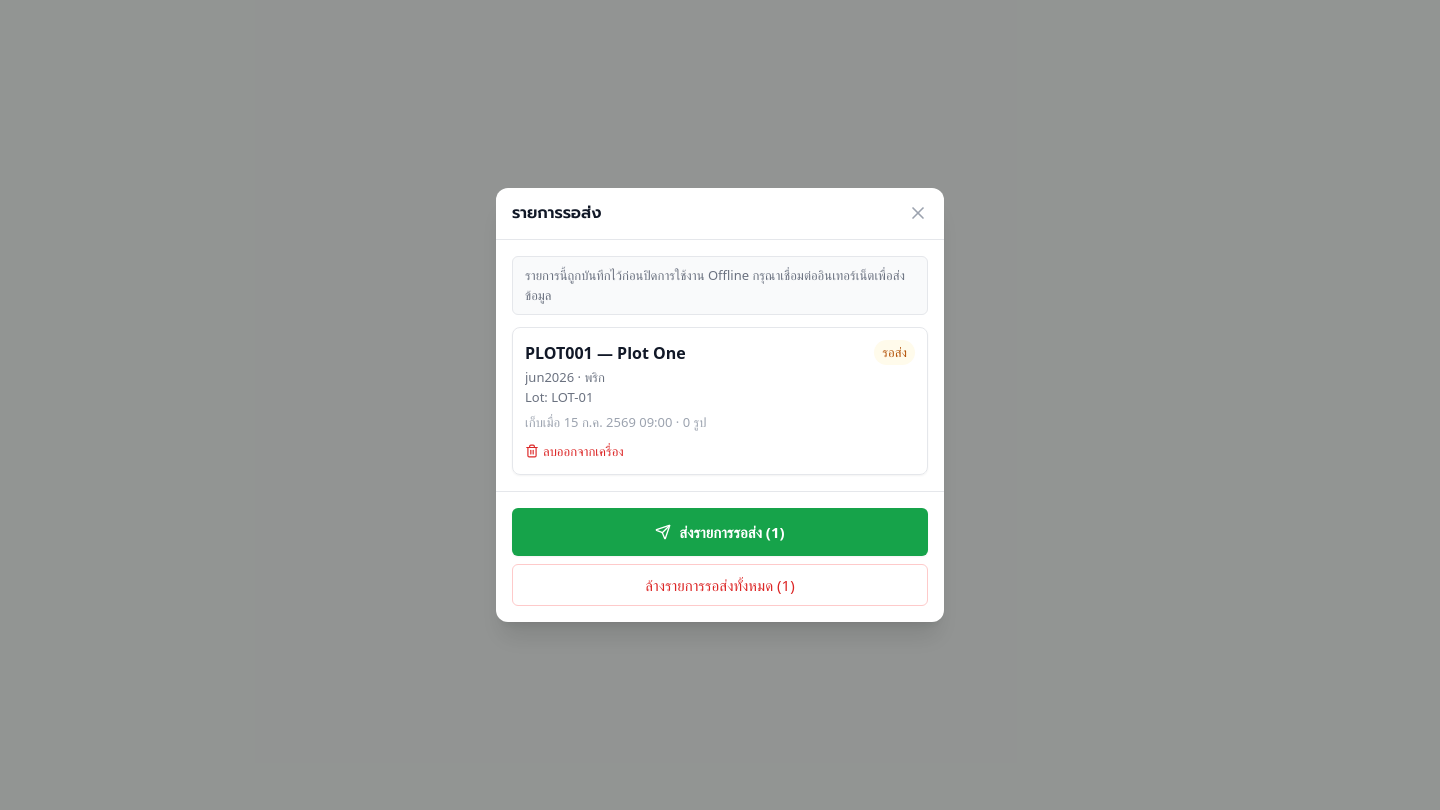
Test: OfflineInspectionQueuePanel — delete one › deletes a draft after confirm, refreshes the list, and notifies the parent
Expected: the text "PLOT001 — Plot One" is shown, [525,342,686,364]
Click the button "ลบออกจากเครื่อง" at (574, 451), box [525,441,624,462]
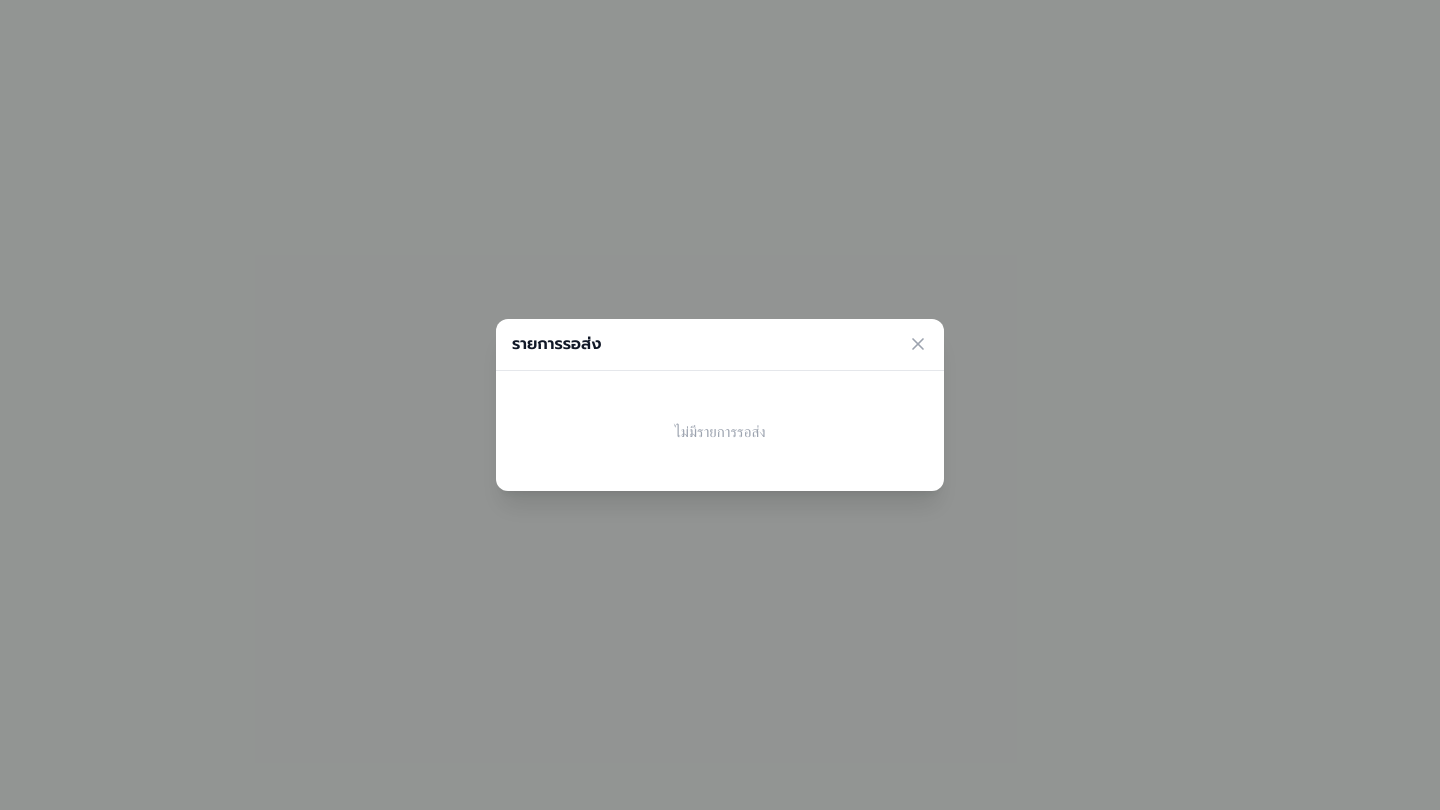
Now the button "PLOT001 — Plot One" is gone
Now the text "ไม่มีรายการรอส่ง" is shown, box [674,421,766,441]
